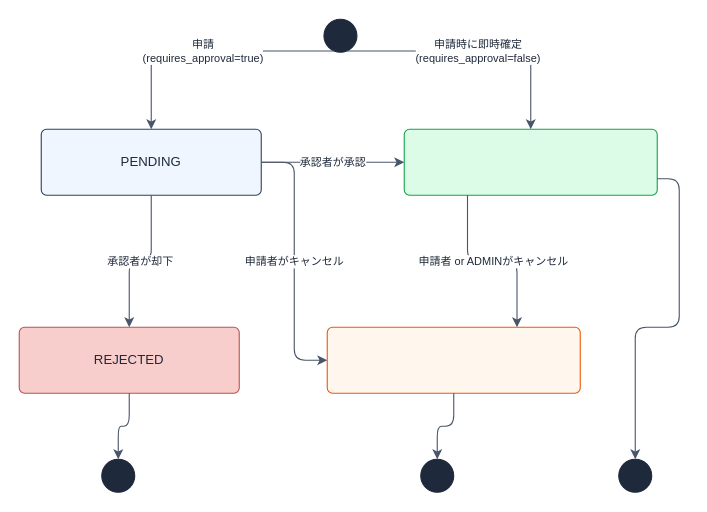
Some shapes in this 707 by 512 pixel diagram are drawn without their labels. Here are the shapes that lost their labels. From the top down, the box of each, then its label:
(403, 128, 657, 195): APPROVED
(326, 326, 580, 393): CANCELLED
